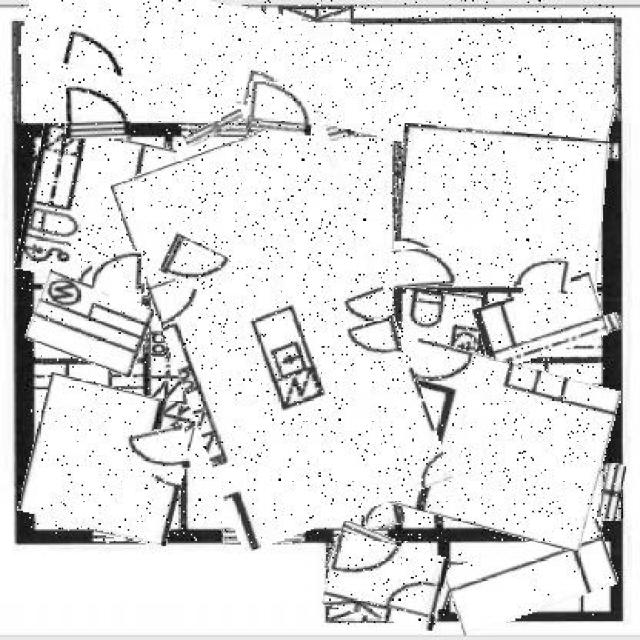door: (142, 123, 422, 540), (19, 0, 615, 152), (383, 350, 612, 542), (393, 127, 604, 290), (25, 380, 192, 538), (21, 129, 170, 289), (447, 531, 616, 623), (29, 278, 151, 369), (477, 282, 606, 363), (326, 538, 446, 624), (402, 290, 480, 358)
window: (329, 525, 397, 586), (162, 238, 230, 292), (248, 83, 315, 135), (66, 86, 131, 139), (128, 428, 189, 475), (391, 248, 460, 288), (516, 251, 572, 292), (349, 318, 400, 362), (94, 251, 146, 294), (394, 571, 451, 606), (363, 498, 405, 528)
zone: (428, 114, 495, 140), (316, 117, 382, 140), (183, 117, 246, 141), (223, 526, 302, 545), (600, 465, 625, 520), (94, 531, 166, 543), (603, 314, 622, 332), (605, 143, 620, 159)
